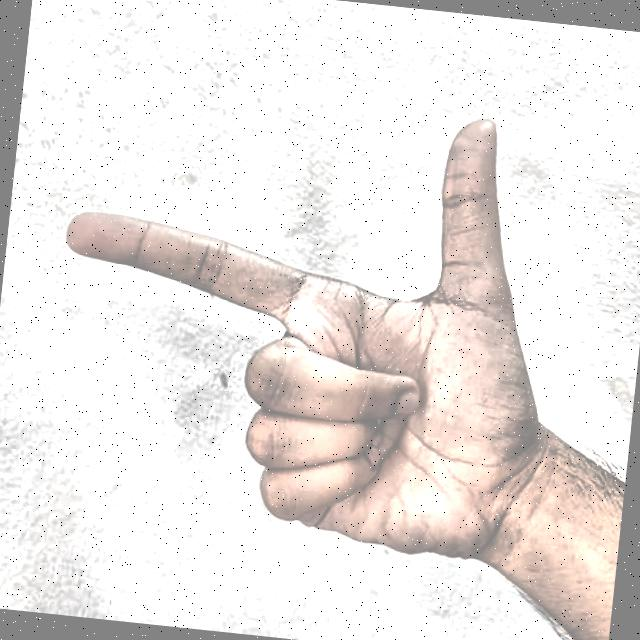Tha: (18, 24, 585, 612)
